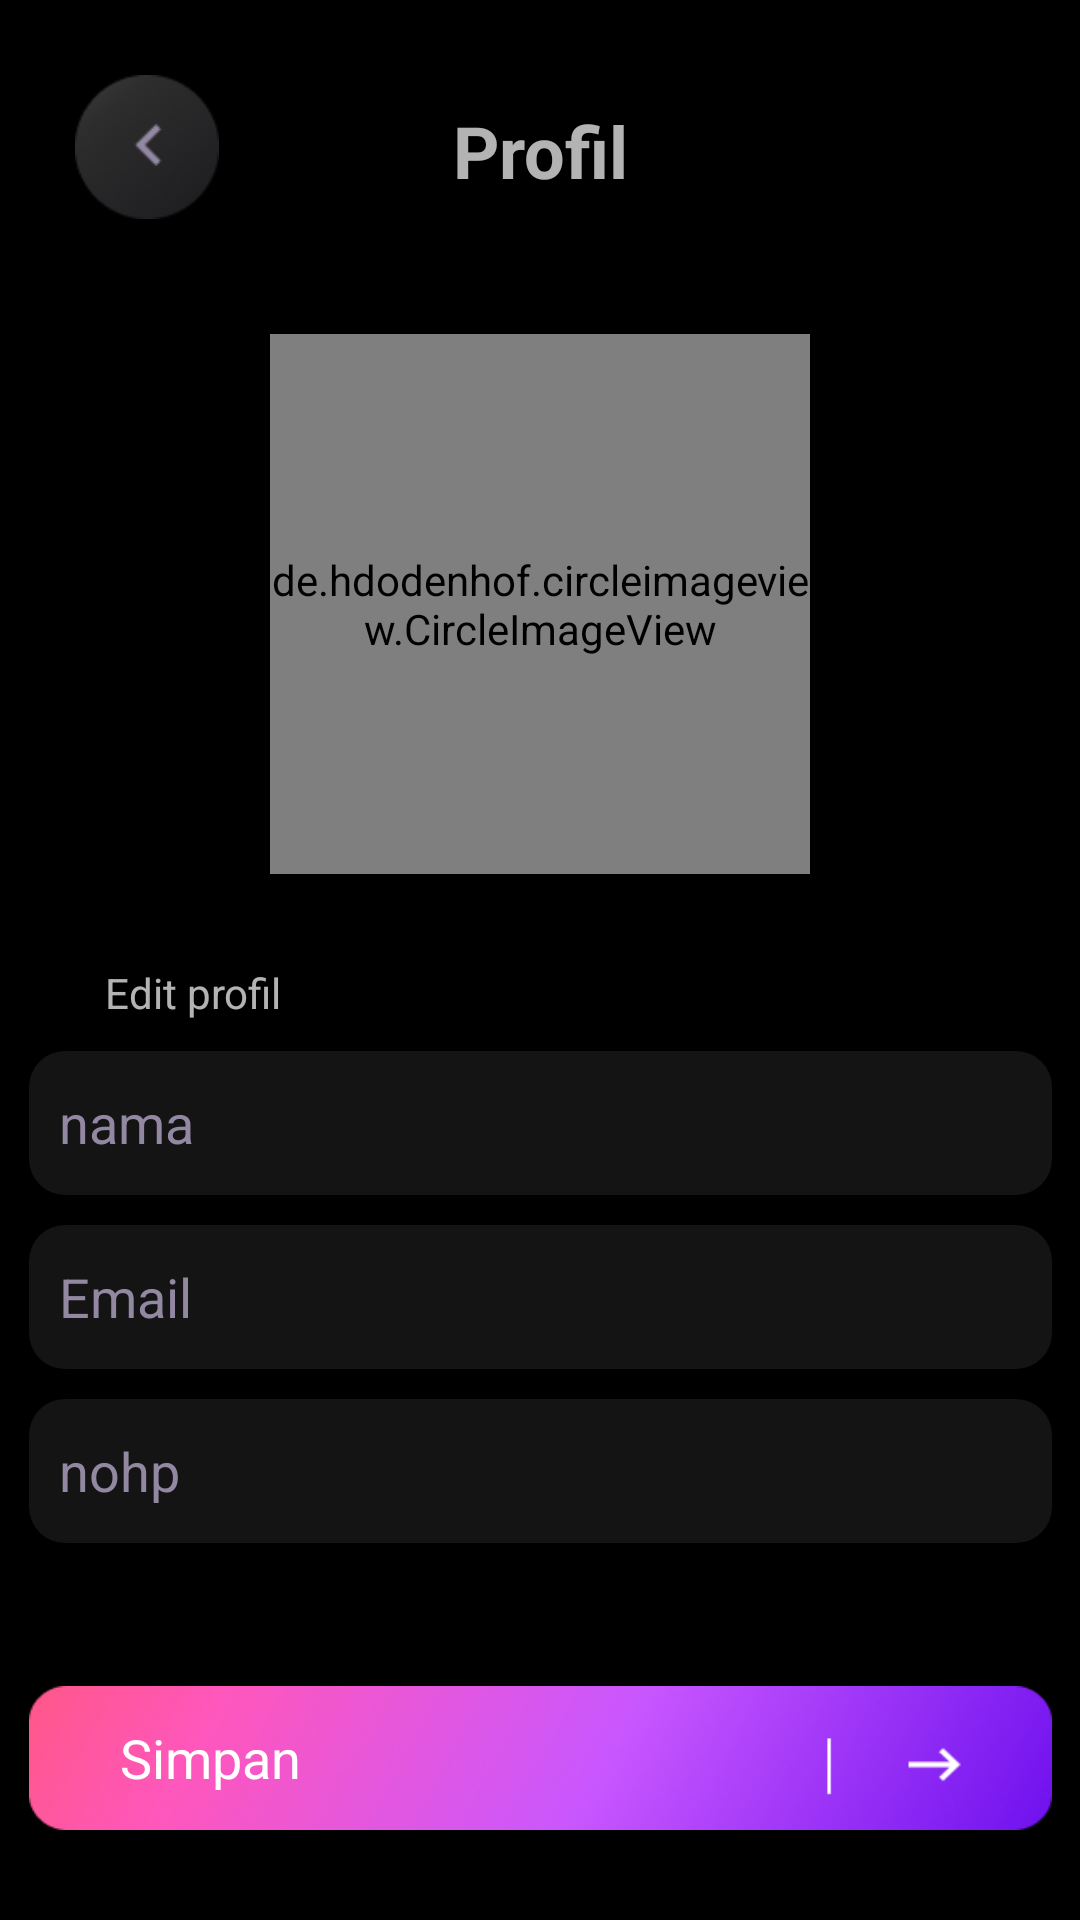

Icons on this 1080×1920 Android screen, each with the point to tap as [x,y]:
back: [147,147]
